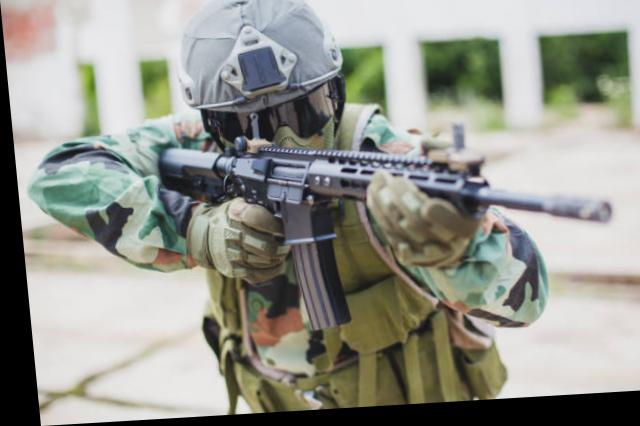other: (147, 0, 508, 415)
